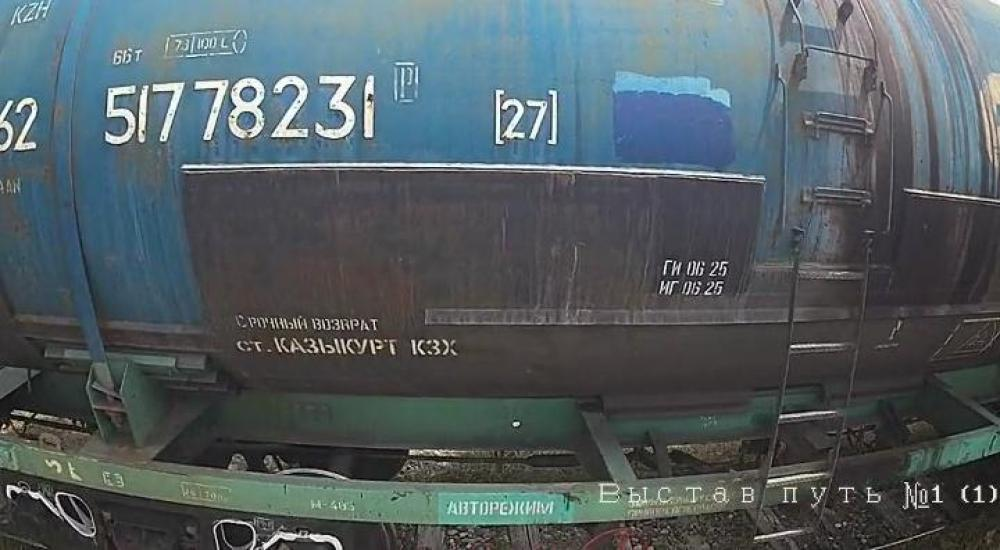Wagon-number: (97, 69, 385, 152)
